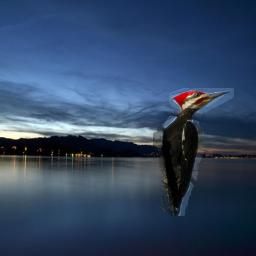Woodpecker: (153, 88, 234, 216)
